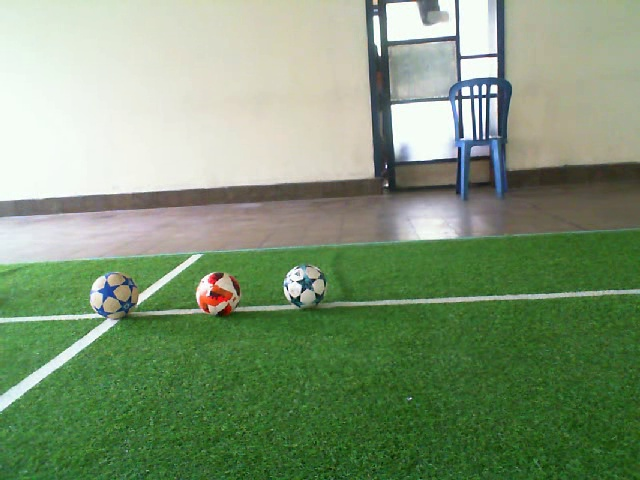ball: (88, 270, 140, 321), (194, 270, 243, 317), (282, 263, 329, 310)
